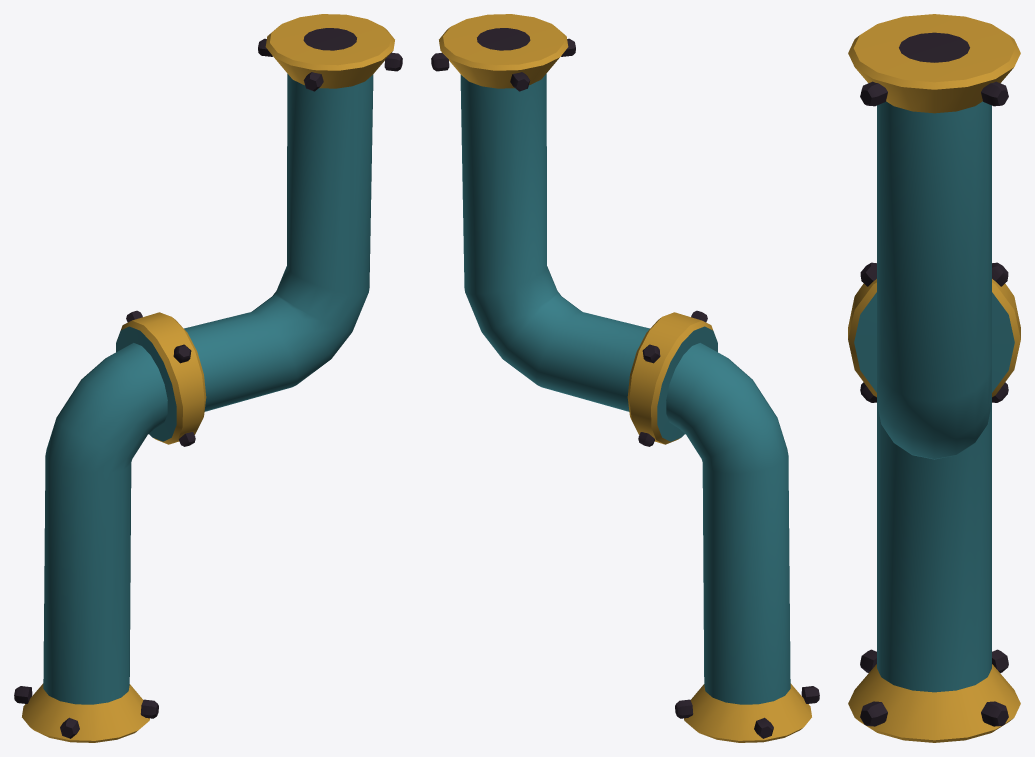
Rendered from PipeRun_18.glb.
3 views of the same model, side by side, from view 1: azimuth 30°, elevation 25°; view 2: azimuth 150°, elevation 25°; view 3: azimuth 270°, elevation 25° (orthographic). The views are drawn at different scales.
Visible parts, largest first — view 1: PipeRun_18; view 2: PipeRun_18; view 3: PipeRun_18.
Boxes of the visible parts, bbox=[...] form: PipeRun_18: bbox=[14, 14, 402, 742]; PipeRun_18: bbox=[431, 14, 819, 742]; PipeRun_18: bbox=[848, 14, 1020, 742].
Size of the model in its own units: 3.6 by 5.96 by 1.14.
